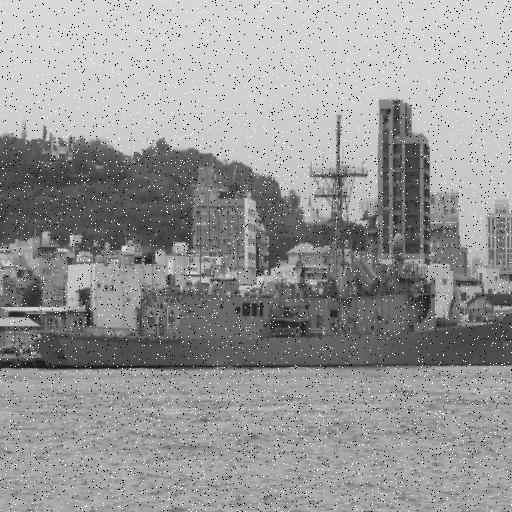Fragata: (31, 105, 512, 369)
